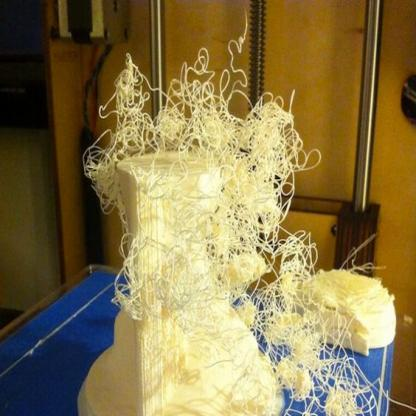fail: (93, 44, 355, 386)
